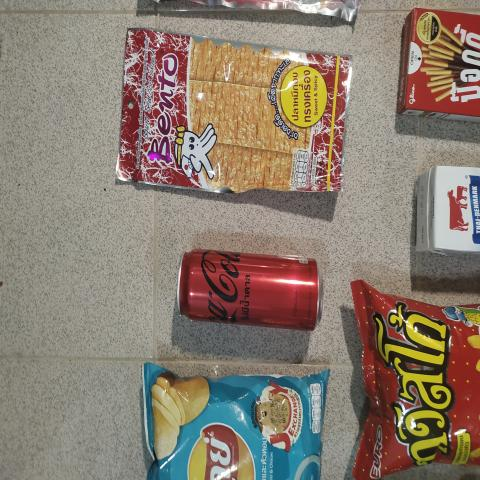bento_red: (123, 30, 338, 203)
coke_red: (168, 243, 328, 345)
lay_blue: (139, 359, 326, 480)
